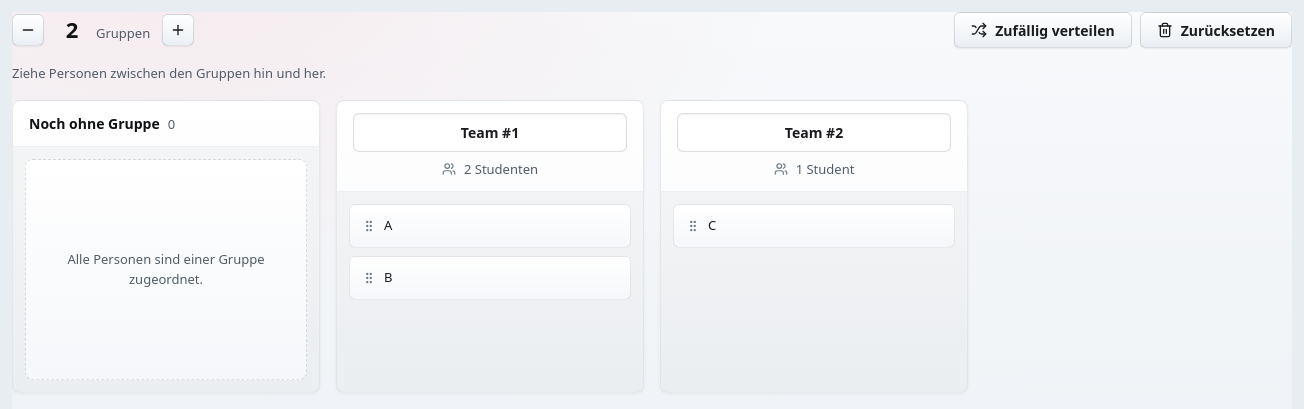
Test: TeamBuilder › ändert die Anzahl der Gruppen in den Grenzen 1 bis Personenzahl
The width and height of the screenshot is (1304, 409).
Expected: the text with test id "team-count" reads "2", [66,14,78,44]
Click the button named "Gruppe hinzufügen" at (178, 30), box [162,14,194,46]
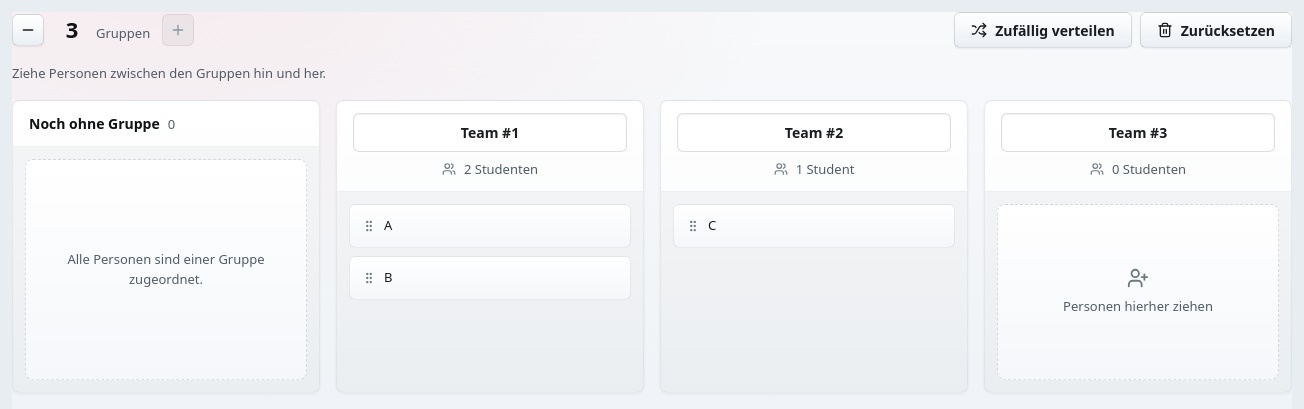
Result: the text with test id "team-count" reads "3" at [66,14,78,44]
Result: the button named "Gruppe hinzufügen" is disabled at [162,14,194,46]
Click the button named "Gruppe entfernen" at (28, 30), box [12,14,44,46]
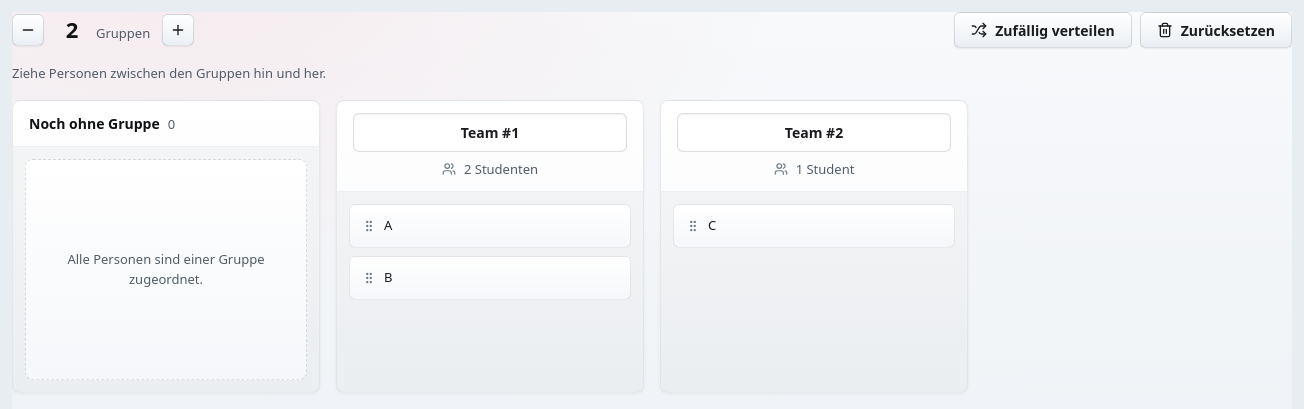
Click the button named "Gruppe entfernen" at (28, 30), box [12,14,44,46]
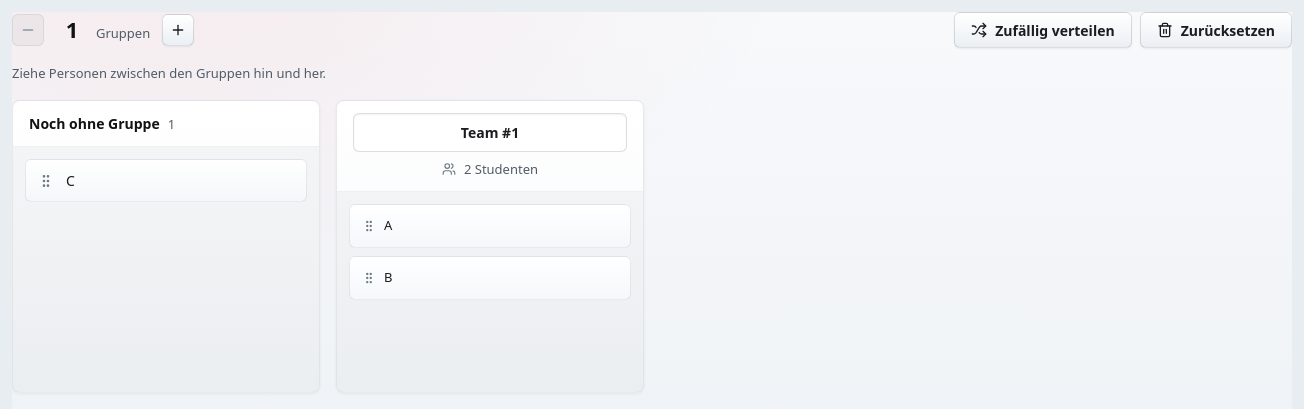
Result: the text with test id "team-count" reads "1" at [66,14,78,44]
